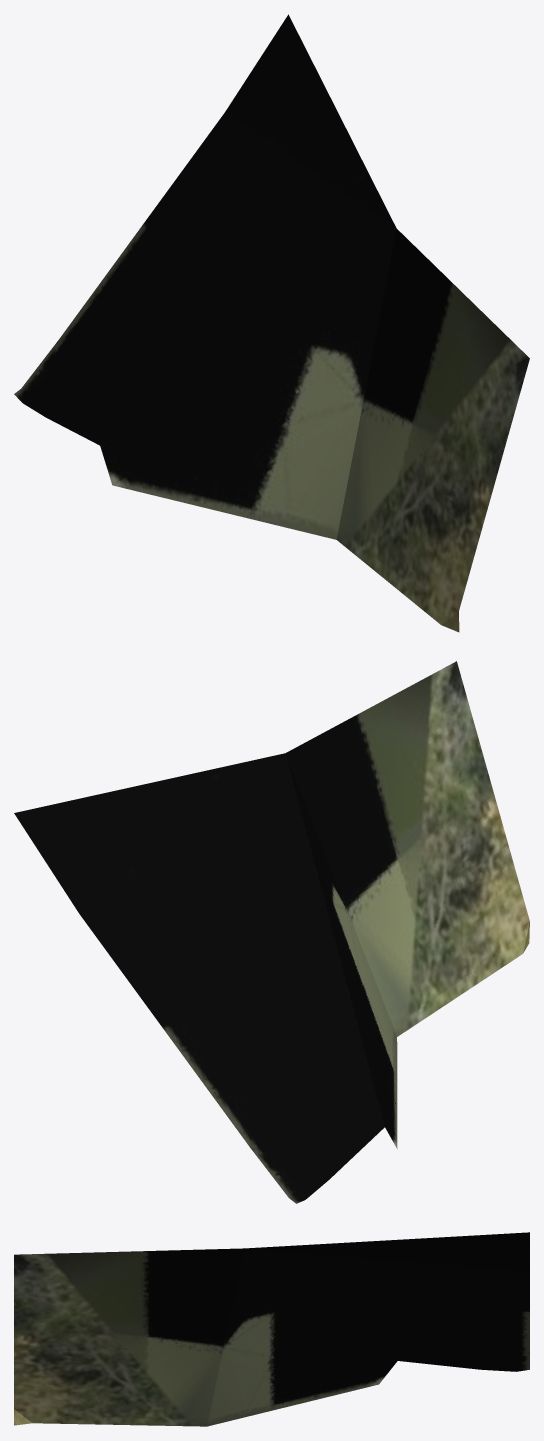
3 views of the same model, one above another, from view 1: azimuth 30°, elevation 25°; view 2: azimuth 150°, elevation 25°; view 3: azimuth 270°, elevation 25° (orthographic). The views are drawn at different scales.
Size of the model in its own units: 5.56 by 6.43 by 11.8.
Materials: 2 (2 with a texture image).
